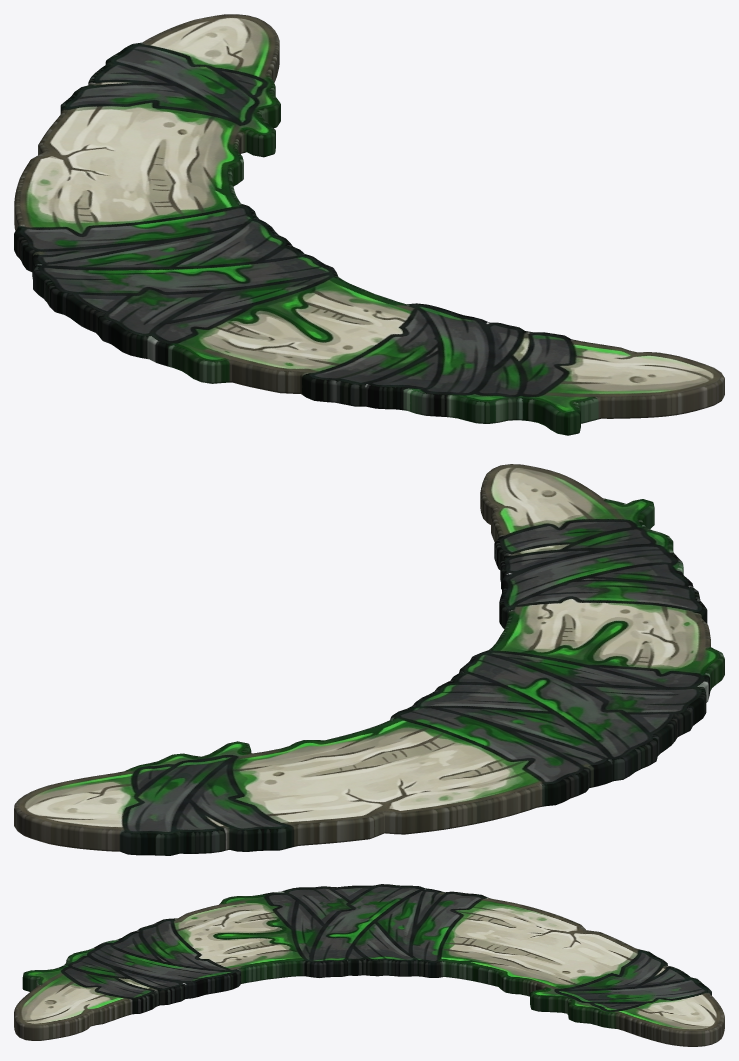
Rendered from Boomerang_16.fbx.
The picture shows the model from 3 angles, top to bottom: view 1: azimuth 30°, elevation 25°; view 2: azimuth 150°, elevation 25°; view 3: azimuth 270°, elevation 25°; orthographic projection. The views are drawn at different scales.
Parts seen in each view (by area): view 1: Boomerang_16; view 2: Boomerang_16; view 3: Boomerang_16.
Part boxes in pixels (x1=…): Boomerang_16: x1=14, y1=14, x2=724, y2=435; Boomerang_16: x1=14, y1=464, x2=724, y2=855; Boomerang_16: x1=14, y1=884, x2=724, y2=1046.
Size of the model in its own units: 99.17 by 4.6 by 199.
1 material, 1 textured.
